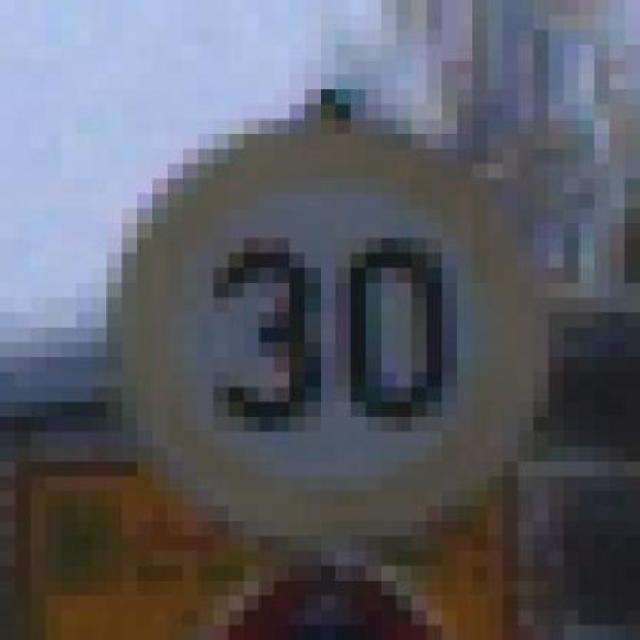Speed Limit 30 KMPh: (45, 59, 564, 566)
